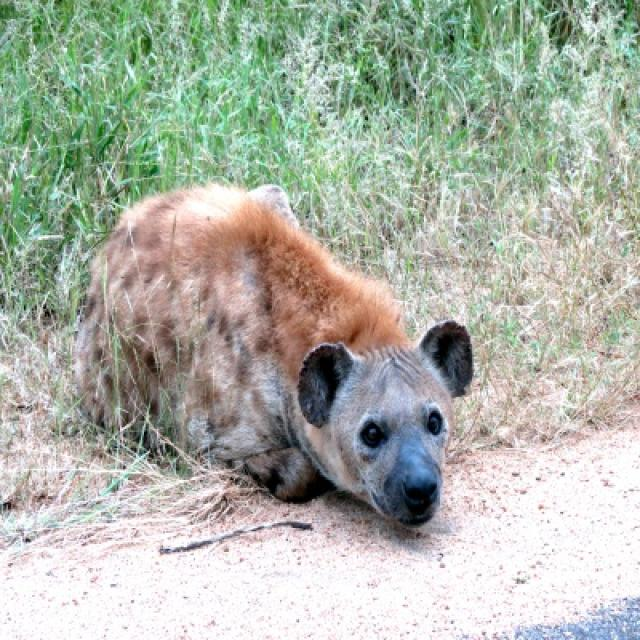hyena: (74, 184, 475, 530)
